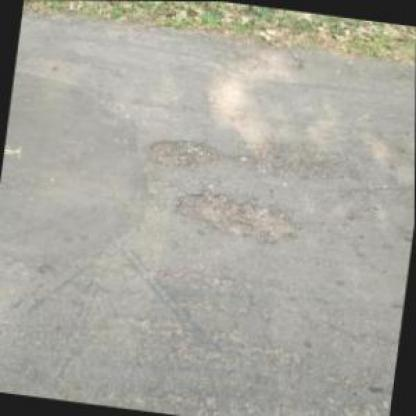pothole: (169, 183, 309, 248), (246, 136, 342, 187), (146, 132, 220, 173)
